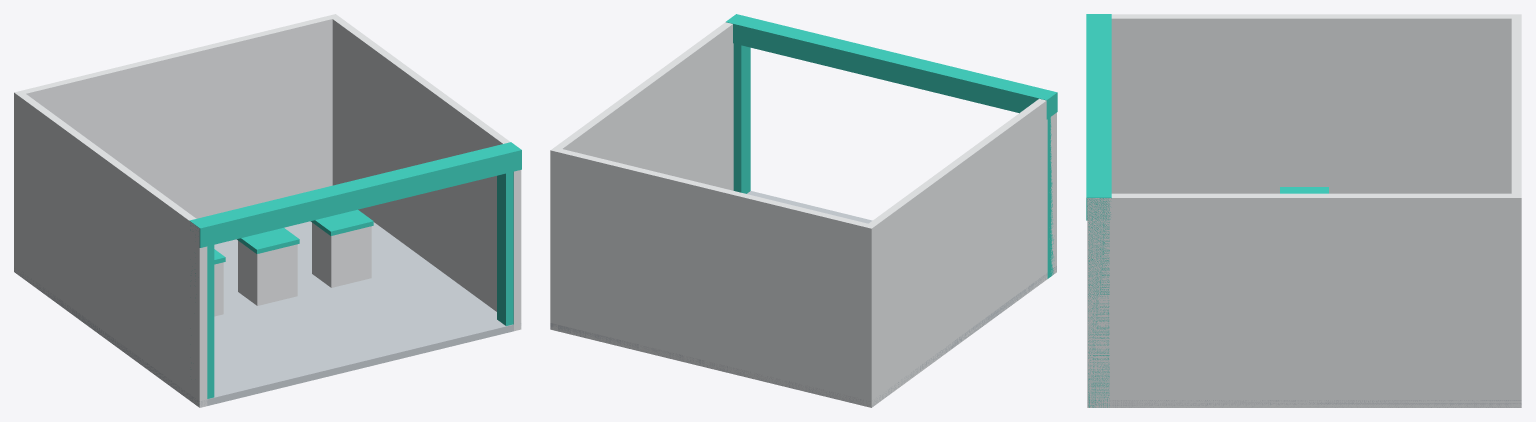
3 views of the same model, side by side, from view 1: azimuth 30°, elevation 25°; view 2: azimuth 150°, elevation 25°; view 3: azimuth 270°, elevation 25° (orthographic). The views are drawn at different scales.
Visible parts, largest first — view 1: Exhibition Booth Concept; view 2: Exhibition Booth Concept; view 3: Exhibition Booth Concept.
Part boxes in pixels (bbox=[...]): Exhibition Booth Concept: bbox=[14, 14, 521, 407]; Exhibition Booth Concept: bbox=[550, 14, 1057, 407]; Exhibition Booth Concept: bbox=[1086, 14, 1521, 407].
Size of the model in its own units: 6 by 3.2 by 6.02.
